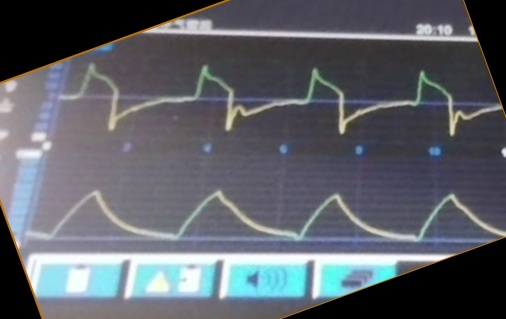Premature_cycling Flow: (71, 58, 484, 142)
Premature_cycling Volume: (42, 175, 492, 245)
